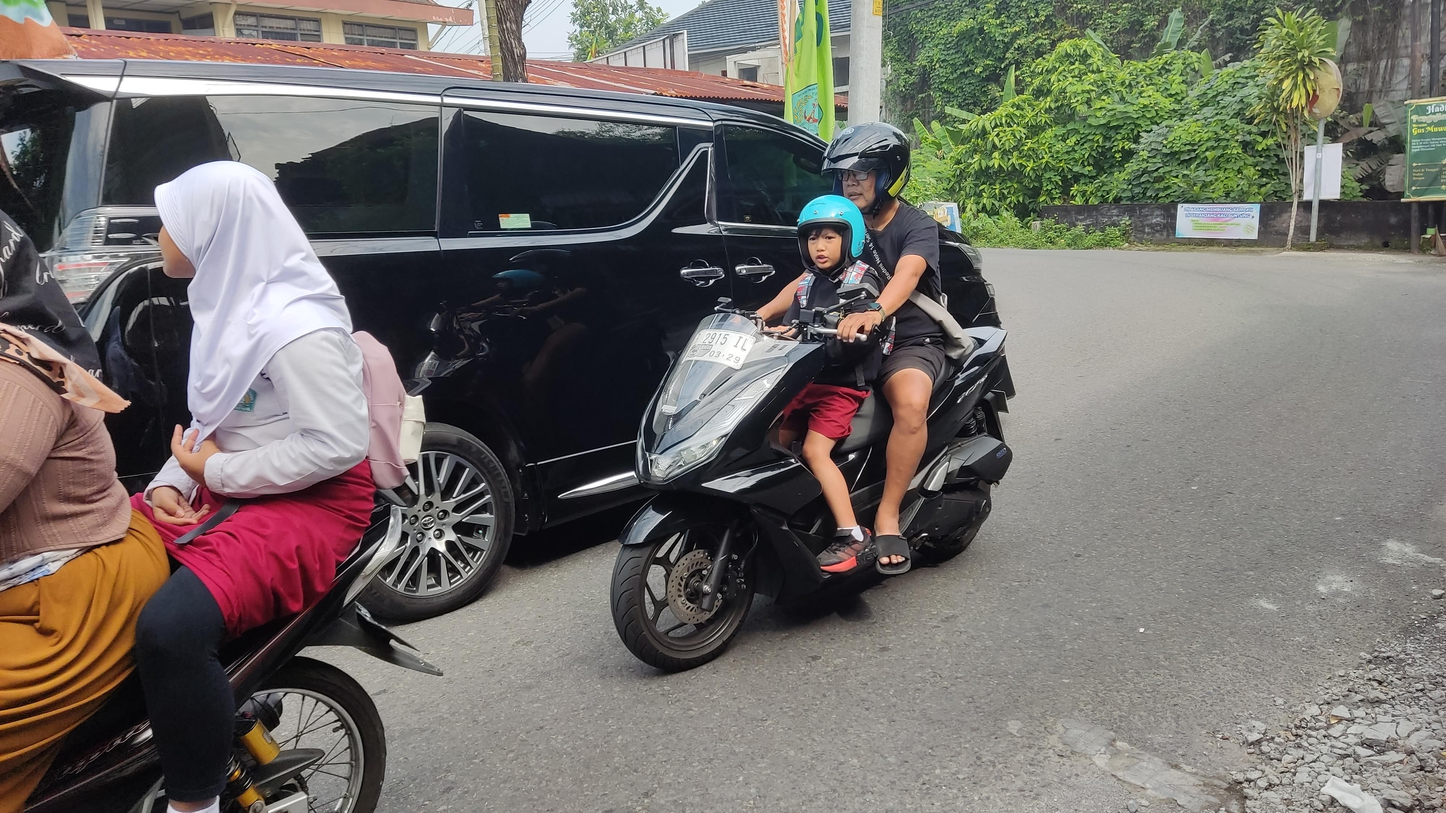helm: (821, 121, 913, 210), (794, 192, 867, 273)
nohelm: (147, 159, 283, 283)
riding: (0, 156, 449, 813), (609, 121, 1018, 672)
